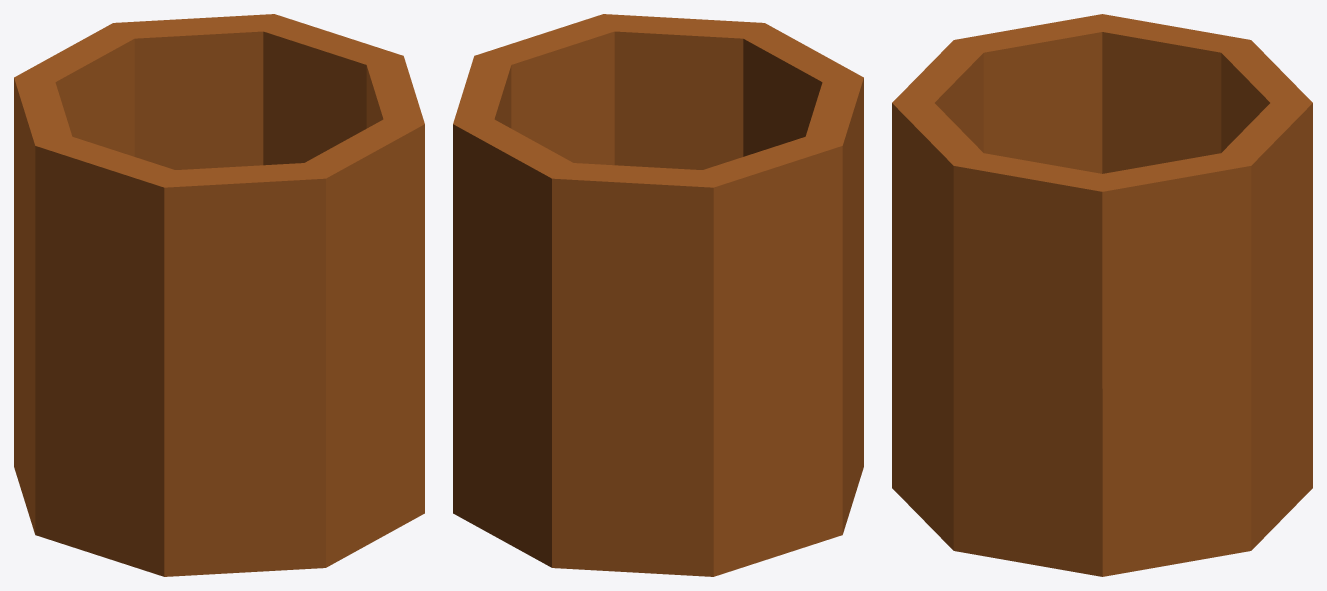
File: SM_cup_04.FBX
3 views of the same model, side by side, from view 1: azimuth 30°, elevation 25°; view 2: azimuth 150°, elevation 25°; view 3: azimuth 270°, elevation 25° (orthographic).
Parts seen in each view (by area): view 1: Object103; view 2: Object103; view 3: Object103.
Boxes of the visible parts, x1,y1,x2,y2 form: Object103: (14,14,424,576); Object103: (453,14,863,576); Object103: (892,14,1312,576).
Bounding box in the file's own units: 15.86 × 16.02 × 15.86.
